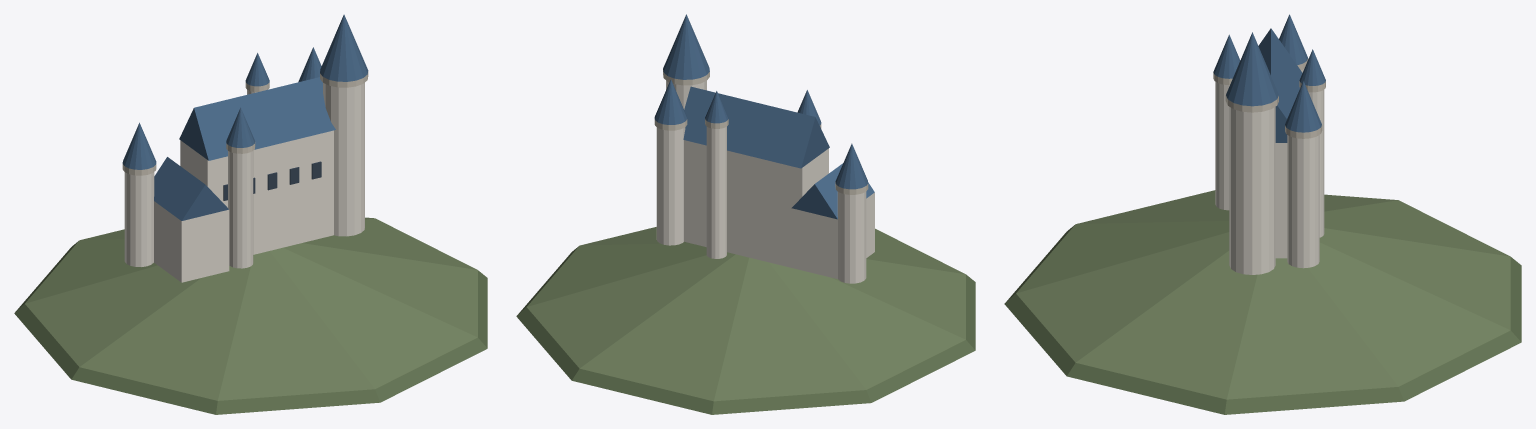
Rendered from neuschwanstein.glb.
The picture shows the model from 3 angles, left to right: view 1: azimuth 30°, elevation 25°; view 2: azimuth 150°, elevation 25°; view 3: azimuth 270°, elevation 25°; orthographic projection. The views are drawn at different scales.
Visible parts, largest first — view 1: neuschwanstein; view 2: neuschwanstein; view 3: neuschwanstein.
Part boxes in pixels (left/top/right/bottom): neuschwanstein: left=14, top=14, right=487, bottom=414; neuschwanstein: left=516, top=14, right=975, bottom=414; neuschwanstein: left=1004, top=14, right=1521, bottom=414.
Bounding box in the file's own units: 1.52 × 1 × 1.5.
